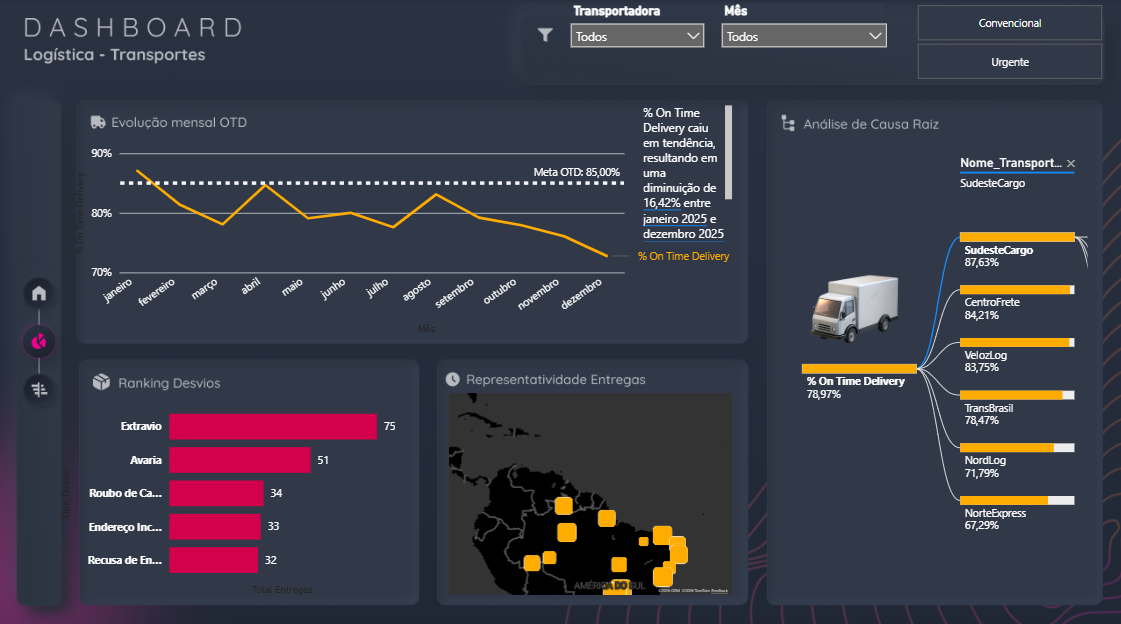

The page's visual inventory and layout, read from the dashboard file:
{"tool":"powerbi","page":{"name":"Página 1","canvas":[1280,720],"ordinal":0},"visuals":[{"type":"barChart","fields":{"Category":["Historico Transporte_fact.Tipo_Desvio"],"Y":["Historico Transporte_fact.Total Entregas"]},"box":[64.8,443.9,390.5,239.8],"z":0},{"type":"azureMap","fields":{"Category":["Historico Transporte_fact.País","Historico Transporte_fact.UF_Destino"],"Size":["Historico Transporte_fact.Total Entregas"]},"box":[507.1,443.9,332.2,239.8],"z":1000},{"type":"lineChart","fields":{"Category":["Historico Transporte_fact.Data_Entrega_Real.Variation.Hierarquia de datas.Ano","Historico Transporte_fact.Data_Entrega_Real.Variation.Hierarquia de datas.Trimestre","Historico Transporte_fact.Data_Entrega_Real.Variation.Hierarquia de datas.Mês","Historico Transporte_fact.Data_Entrega_Real.Variation.Hierarquia de datas.Dia"],"Y":["Historico Transporte_fact.% On Time Delivery"]},"box":[80.4,161.9,758.8,224.7],"z":3001},{"type":"textbox","box":[727.8,116.5,111.3,164.9],"z":3002},{"type":"decompositionTreeVisual","fields":{"Analyze":["Historico Transporte_fact.% On Time Delivery"],"ExplainBy":["Transportadoras_dim.Nome_Transportadora","Historico Transporte_fact.UF_Destino","Historico Transporte_fact.Cidade_Destino"]},"box":[883.5,161.9,359.8,496.9],"z":3003},{"type":"image","box":[900,297.9,148.5,112.4],"z":3004},{"type":"slicer","fields":{"Values":["Transportadoras_dim.Nome_Transportadora"]},"box":[640,0,172.3,98.5],"z":3005},{"type":"slicer","fields":{"Values":["Historico Transporte_fact.Data_Entrega_Real.Variation.Hierarquia de datas.Mês"]},"box":[812.3,0,207.7,98.5],"z":3006},{"type":"slicer","fields":{"Values":["Historico Transporte_fact.Tipo_Frete"]},"box":[1020,0,260,98.5],"z":3007}]}

Visuals, with their boxes on the page's 1280x720 design canvas (x1, y1, x2, y2). These are canvas units, not pixel positions in the 1121x624 screenshot, which may show the page scaled, cropped or inside an application window:
barChart - Historico Transporte_fact.Tipo_Desvio x Historico Transporte_fact.Total Entregas: 65,444,455,684
azureMap - Historico Transporte_fact.País x Historico Transporte_fact.UF_Destino: 507,444,839,684
lineChart - Historico Transporte_fact.Data_Entrega_Real.Variation.Hierarquia de datas.Ano x Historico Transporte_fact.Data_Entrega_Real.Variation.Hierarquia de datas.Trimestre: 80,162,839,387
textbox: 728,116,839,281
decompositionTreeVisual - Historico Transporte_fact.% On Time Delivery x Transportadoras_dim.Nome_Transportadora: 884,162,1243,659
image: 900,298,1048,410
slicer - Transportadoras_dim.Nome_Transportadora: 640,0,812,98
slicer - Historico Transporte_fact.Data_Entrega_Real.Variation.Hierarquia de datas.Mês: 812,0,1020,98
slicer - Historico Transporte_fact.Tipo_Frete: 1020,0,1280,98
